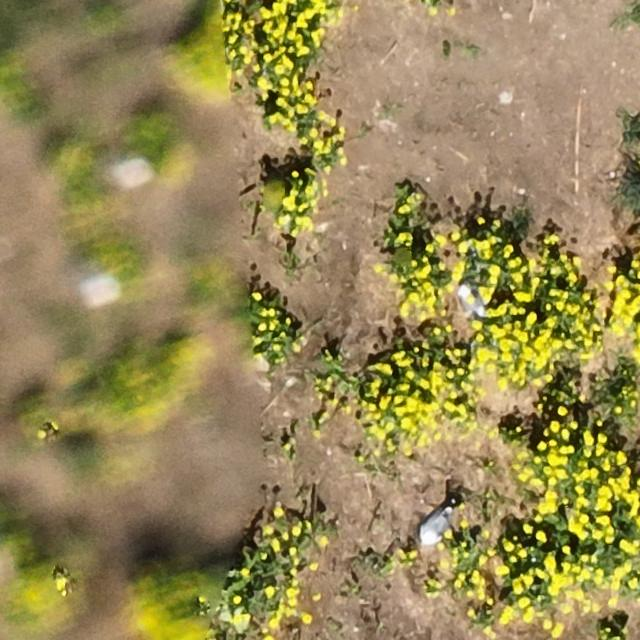umineko: (421, 510, 449, 542), (460, 286, 484, 320)
